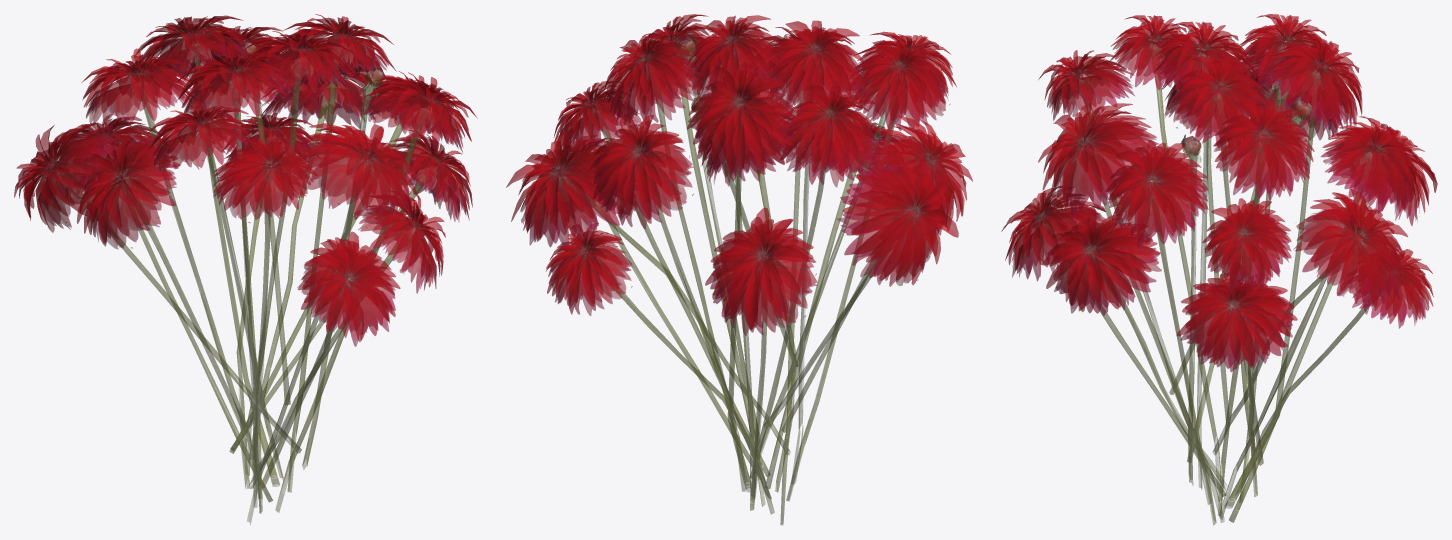
Rendered from preview.glb.
3 renders of one model, left to right at view 1: azimuth 30°, elevation 25°; view 2: azimuth 150°, elevation 25°; view 3: azimuth 270°, elevation 25°, orthographic. The views are drawn at different scales.
Visible parts, largest first — view 1: Flower_Dahlia_pinnata_F_Flower_glb, Flower_Dahlia_pinnata_F_Leaf_glb; view 2: Flower_Dahlia_pinnata_F_Flower_glb, Flower_Dahlia_pinnata_F_Leaf_glb; view 3: Flower_Dahlia_pinnata_F_Flower_glb, Flower_Dahlia_pinnata_F_Leaf_glb.
Part boxes in pixels (x1=…): Flower_Dahlia_pinnata_F_Flower_glb: x1=14, y1=14, x2=477, y2=346; Flower_Dahlia_pinnata_F_Leaf_glb: x1=73, y1=43, x2=436, y2=524; Flower_Dahlia_pinnata_F_Flower_glb: x1=506, y1=14, x2=972, y2=335; Flower_Dahlia_pinnata_F_Leaf_glb: x1=587, y1=56, x2=895, y2=525; Flower_Dahlia_pinnata_F_Flower_glb: x1=1001, y1=14, x2=1437, y2=371; Flower_Dahlia_pinnata_F_Leaf_glb: x1=1055, y1=40, x2=1373, y2=525.
Size of the model in its own units: 0.399 by 0.4392 by 0.3592.
2 materials, 2 textured.
